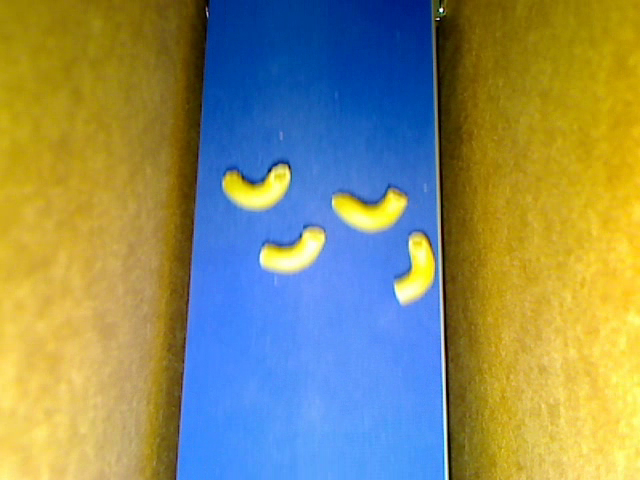elbow: (331, 184, 408, 232), (221, 163, 291, 211), (259, 225, 325, 275), (392, 230, 436, 304)
